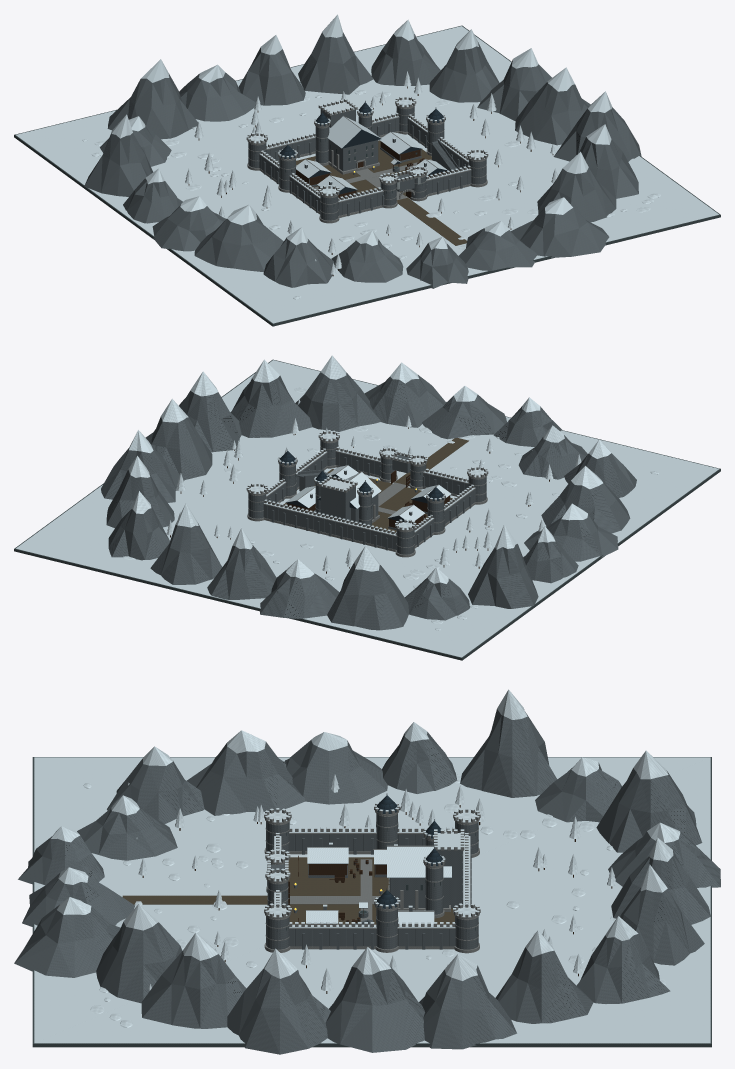
Rendered from winterfell_fortress.glb.
The picture shows the model from 3 angles, top to bottom: view 1: azimuth 30°, elevation 25°; view 2: azimuth 150°, elevation 25°; view 3: azimuth 270°, elevation 25°; orthographic projection. The views are drawn at different scales.
Parts seen in each view (by area): view 1: ENV_WF_AgedStone, ENV_WF_Snow, ENV_WF_CutStone, ENV_WF_FrozenGround, ENV_WF_Gravel, ENV_WF_SlateRoof, ENV_WF_WeatheredWood; view 2: ENV_WF_AgedStone, ENV_WF_Snow, ENV_WF_CutStone, ENV_WF_FrozenGround, ENV_WF_Gravel, ENV_WF_SlateRoof, ENV_WF_WeatheredWood; view 3: ENV_WF_AgedStone, ENV_WF_Snow, ENV_WF_CutStone, ENV_WF_Gravel, ENV_WF_FrozenGround, ENV_WF_WeatheredWood, ENV_WF_SlateRoof.
Boxes of the visible parts, <box> form: ENV_WF_AgedStone: <box>84,32,641,288</box>; ENV_WF_Snow: <box>16,14,718,323</box>; ENV_WF_CutStone: <box>246,97,488,223</box>; ENV_WF_FrozenGround: <box>14,25,720,326</box>; ENV_WF_Gravel: <box>296,140,466,245</box>; ENV_WF_SlateRoof: <box>278,102,447,194</box>; ENV_WF_WeatheredWood: <box>188,86,553,276</box>; ENV_WF_AgedStone: <box>101,372,636,630</box>; ENV_WF_Snow: <box>16,355,718,657</box>; ENV_WF_CutStone: <box>246,431,488,557</box>; ENV_WF_FrozenGround: <box>14,359,720,660</box>; ENV_WF_Gravel: <box>284,438,468,532</box>; ENV_WF_SlateRoof: <box>278,451,449,521</box>; ENV_WF_WeatheredWood: <box>170,427,549,573</box>; ENV_WF_AgedStone: <box>14,709,720,1054</box>; ENV_WF_Snow: <box>34,689,710,1043</box>; ENV_WF_CutStone: <box>264,802,480,953</box>; ENV_WF_Gravel: <box>122,857,454,924</box>; ENV_WF_FrozenGround: <box>32,757,711,1047</box>; ENV_WF_WeatheredWood: <box>142,805,612,993</box>; ENV_WF_SlateRoof: <box>306,795,451,923</box>.
Size of the model in its own units: 240 by 35.08 by 239.
11 materials, 7 textured.
